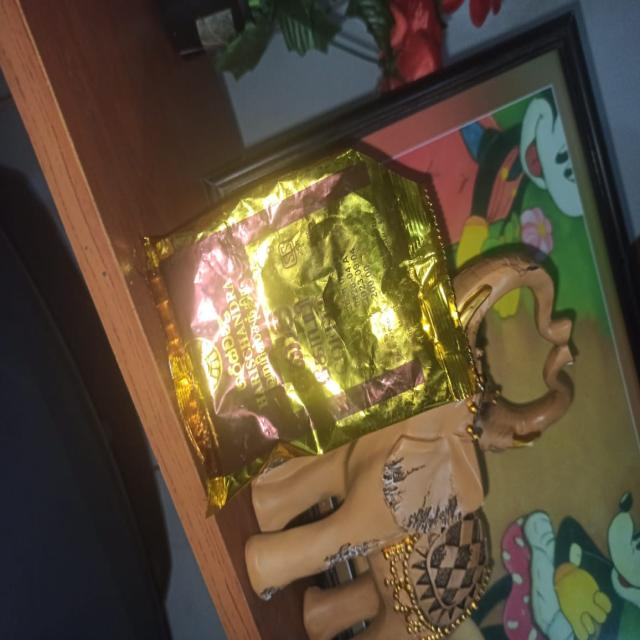Harischandra Coffee: (182, 206, 494, 484)
